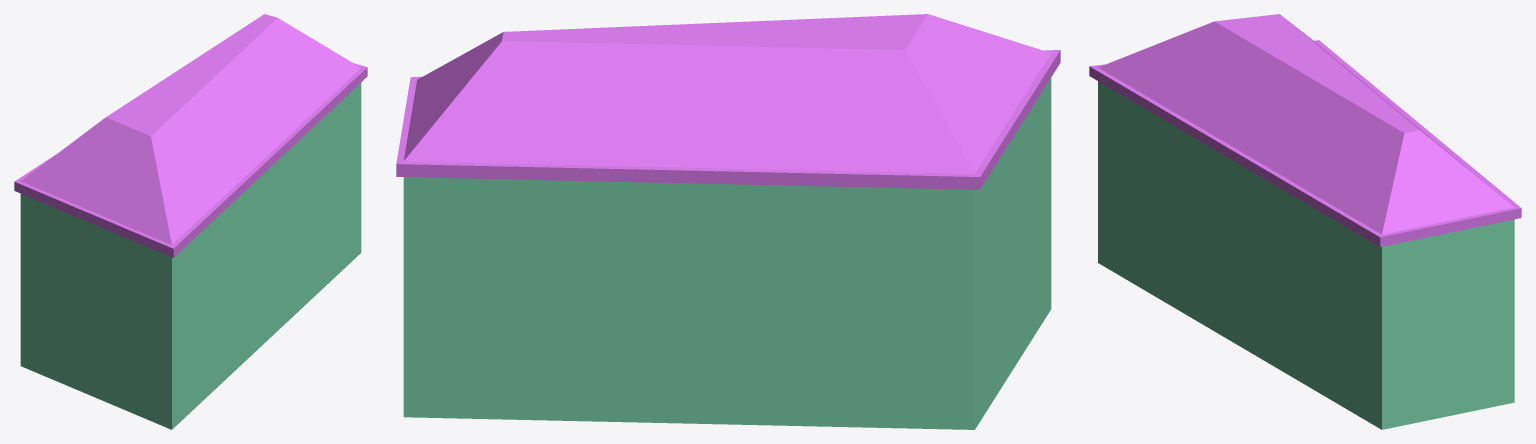
Rendered from Batiment4.fbx.
3 views of the same model, side by side, from view 1: azimuth 30°, elevation 25°; view 2: azimuth 150°, elevation 25°; view 3: azimuth 270°, elevation 25° (orthographic). The views are drawn at different scales.
Parts seen in each view (by area): view 1: Batiment4; view 2: Batiment4; view 3: Batiment4.
Boxes of the visible parts, x1,y1,x2,y2 form: Batiment4: (14, 14, 367, 429); Batiment4: (396, 14, 1060, 429); Batiment4: (1089, 14, 1521, 429).
Size of the model in its own units: 52.95 by 32.43 by 49.05.
